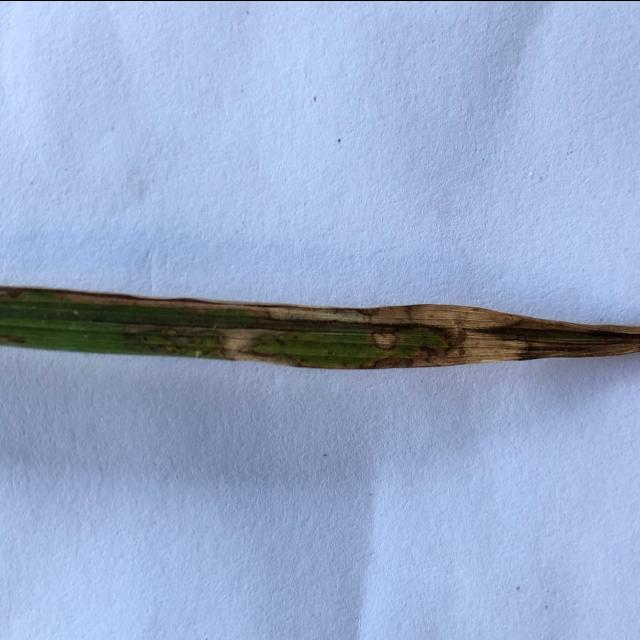Leaf Blight: (0, 284, 640, 369)
